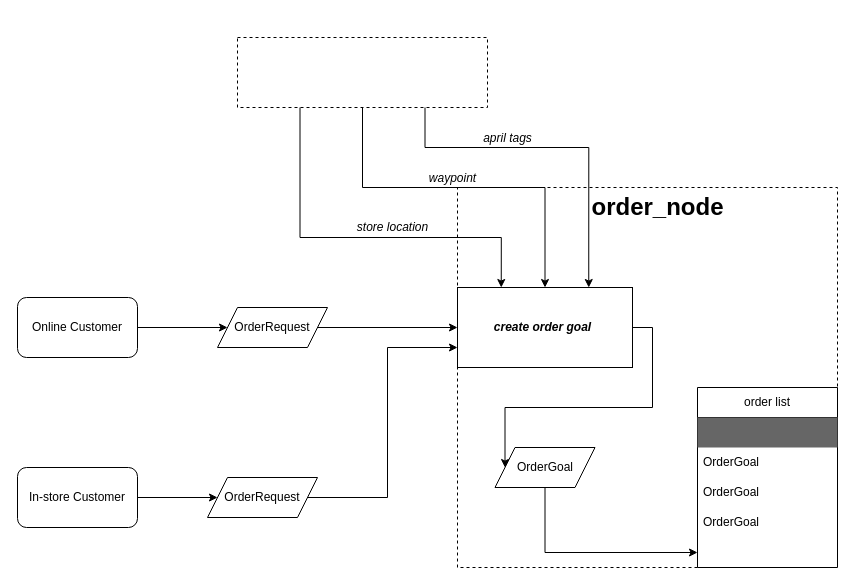
The diagram is 855 pixels wide and 585 high, and some of its shapes have lost their labels. Each missing label, with the centre of its shape:
OrderGoal (current): the point at 767,432
parameter_server: the point at 362,72
